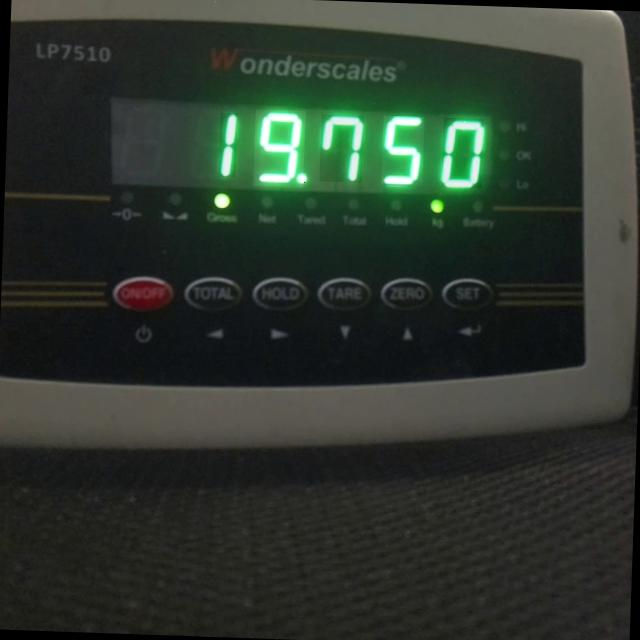.: (296, 172, 306, 183)
0: (441, 118, 484, 188)
1: (218, 112, 237, 177)
5: (380, 116, 424, 187)
7: (320, 114, 364, 182)
9: (252, 109, 306, 188)
